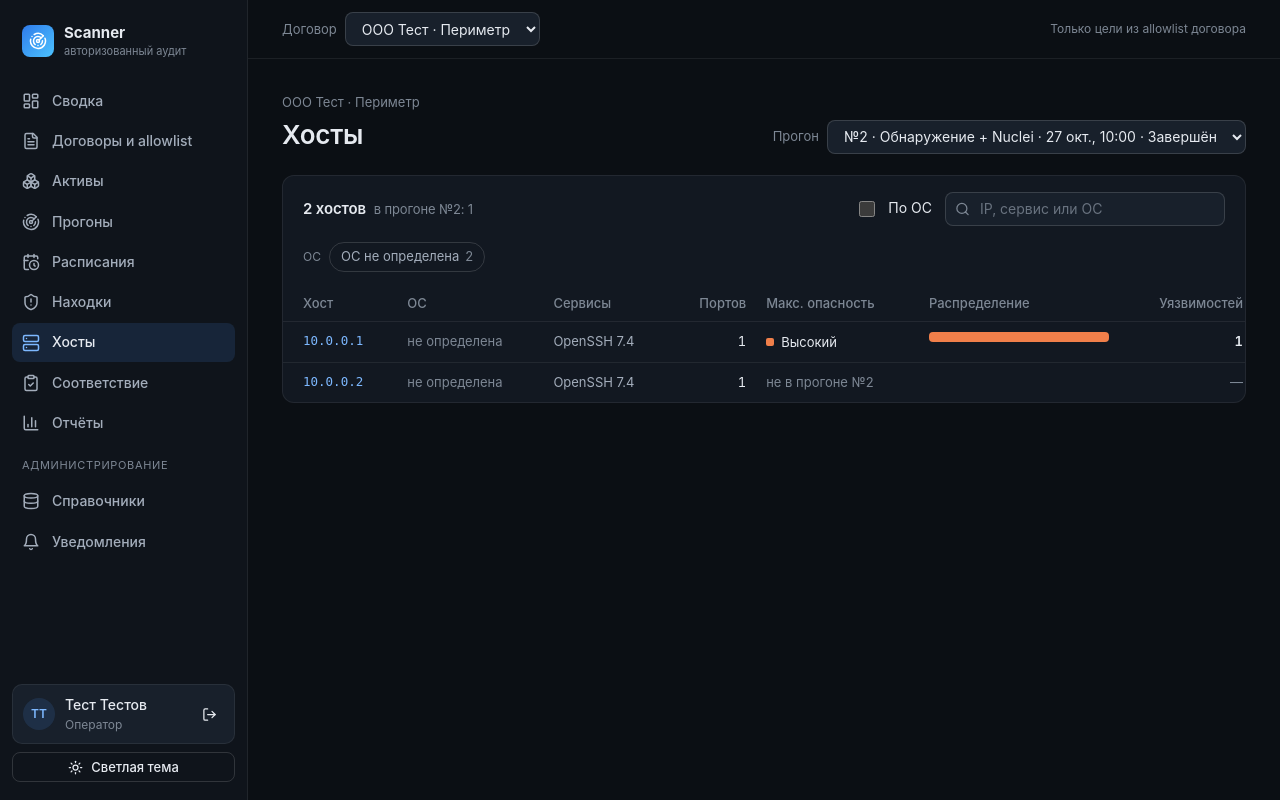
Test case: вкладка «Хосты»: список постоянный, от прогона меняются только счётчики
Expected: the text "в прогоне №2: 1" is shown, [374,201,473,217]
Expected: the text "не в прогоне №2" is shown, [756,362,1119,402]
Select "1" in the dropdown labelled "Прогон": (1036, 136) [827,120,1246,154]
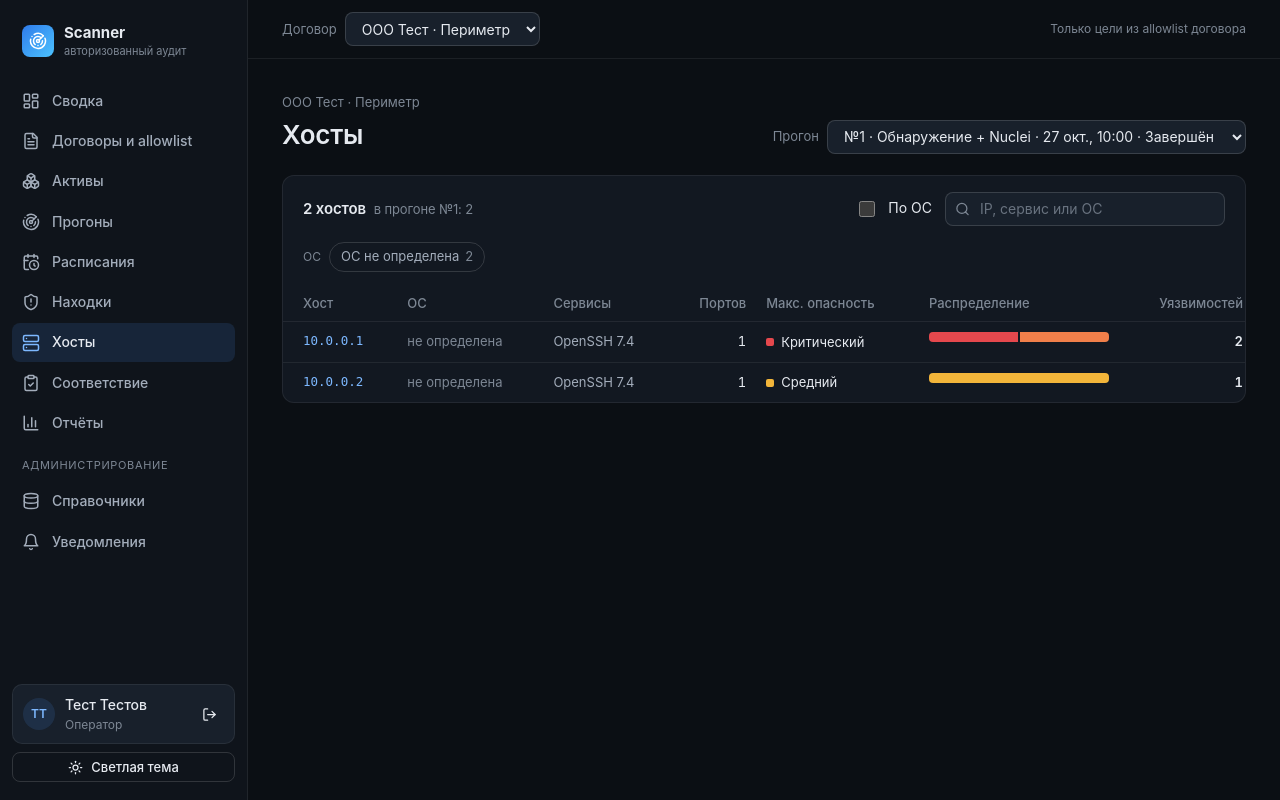
Expected: the text "в прогоне №1: 2" is shown, [374,201,473,217]
